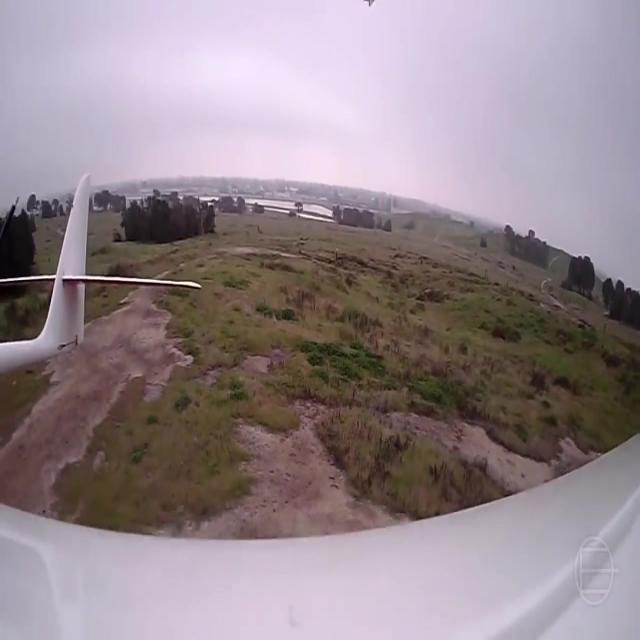iha: (0, 170, 136, 375)
